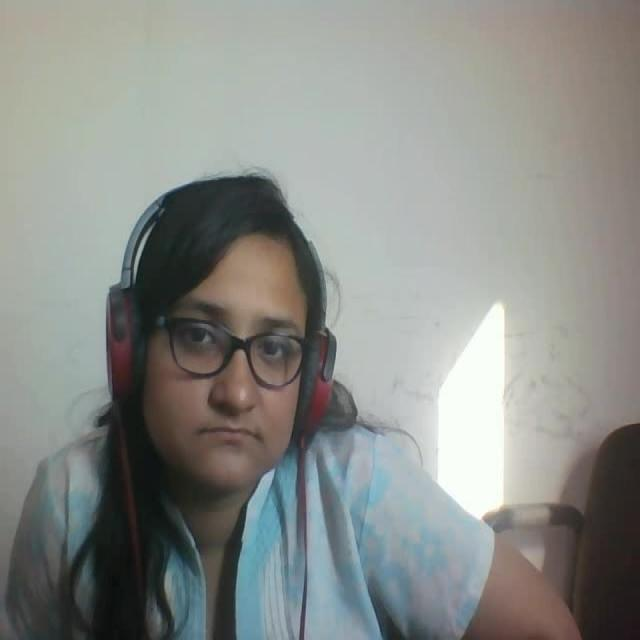Bored: (101, 162, 373, 511)
